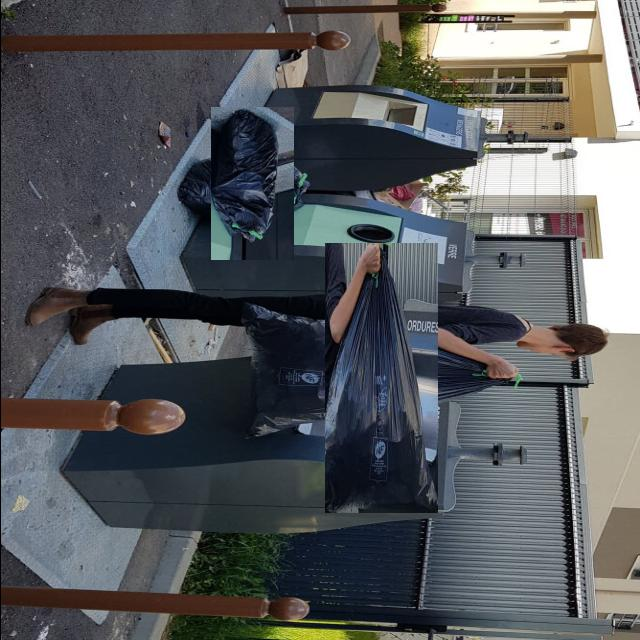garbage: (284, 282, 476, 474), (192, 125, 310, 242)
